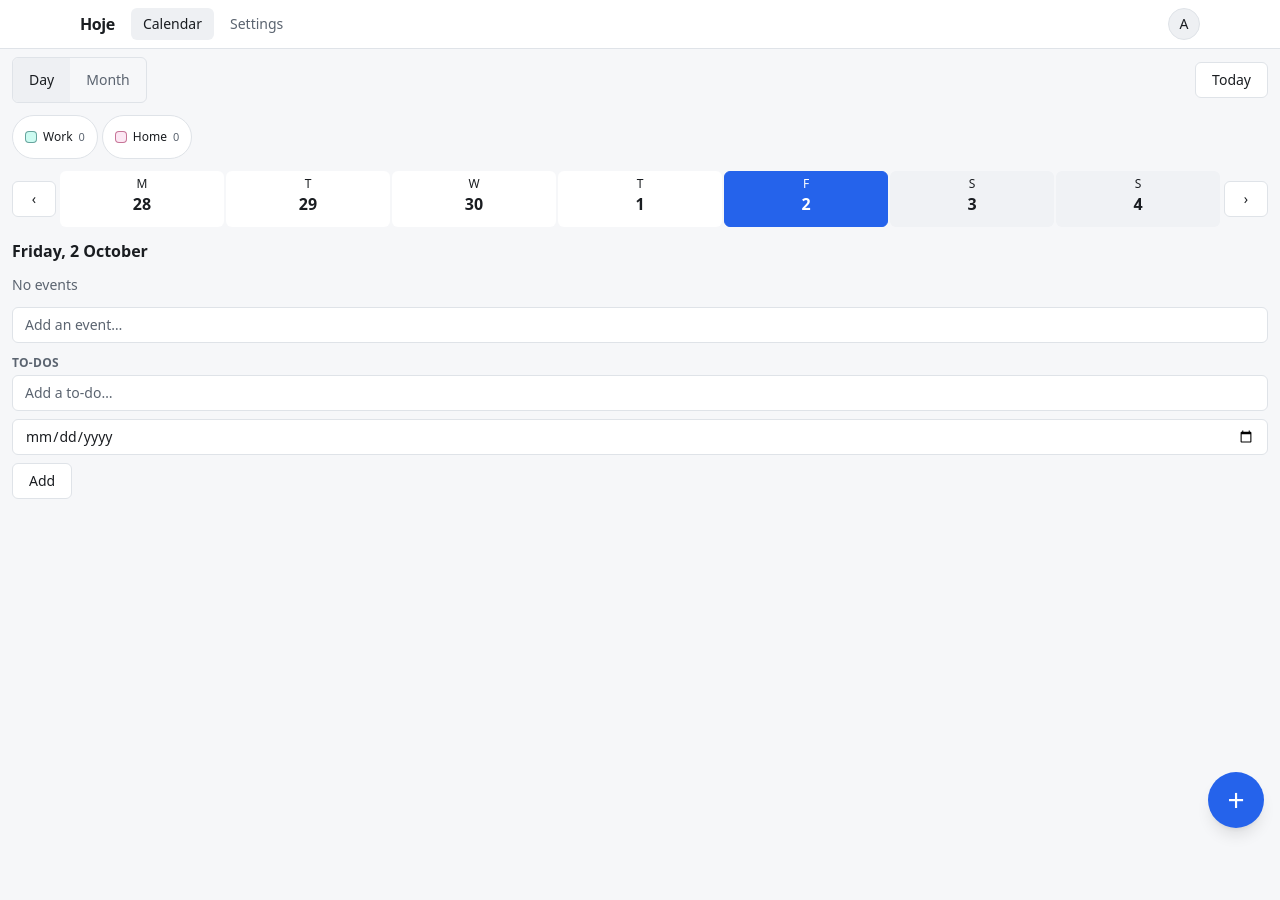
Test: mobile calendar › More carries the typed title into the full editor
Click the button named "Add event" at (1236, 800), box [1208,772,1264,828]
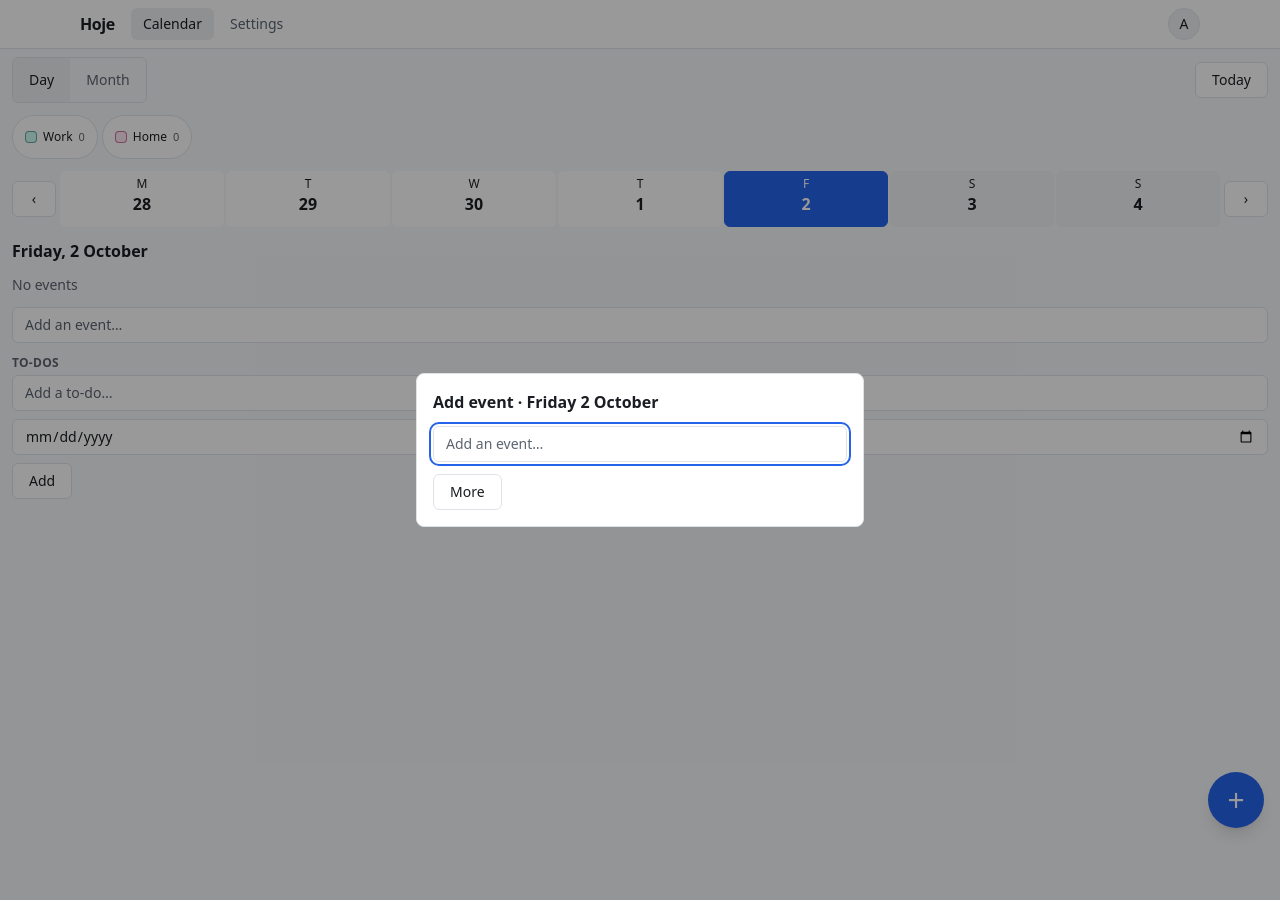
Type "Dentist" into the field labelled "Add an event" at (640, 444), box [433,426,847,462]
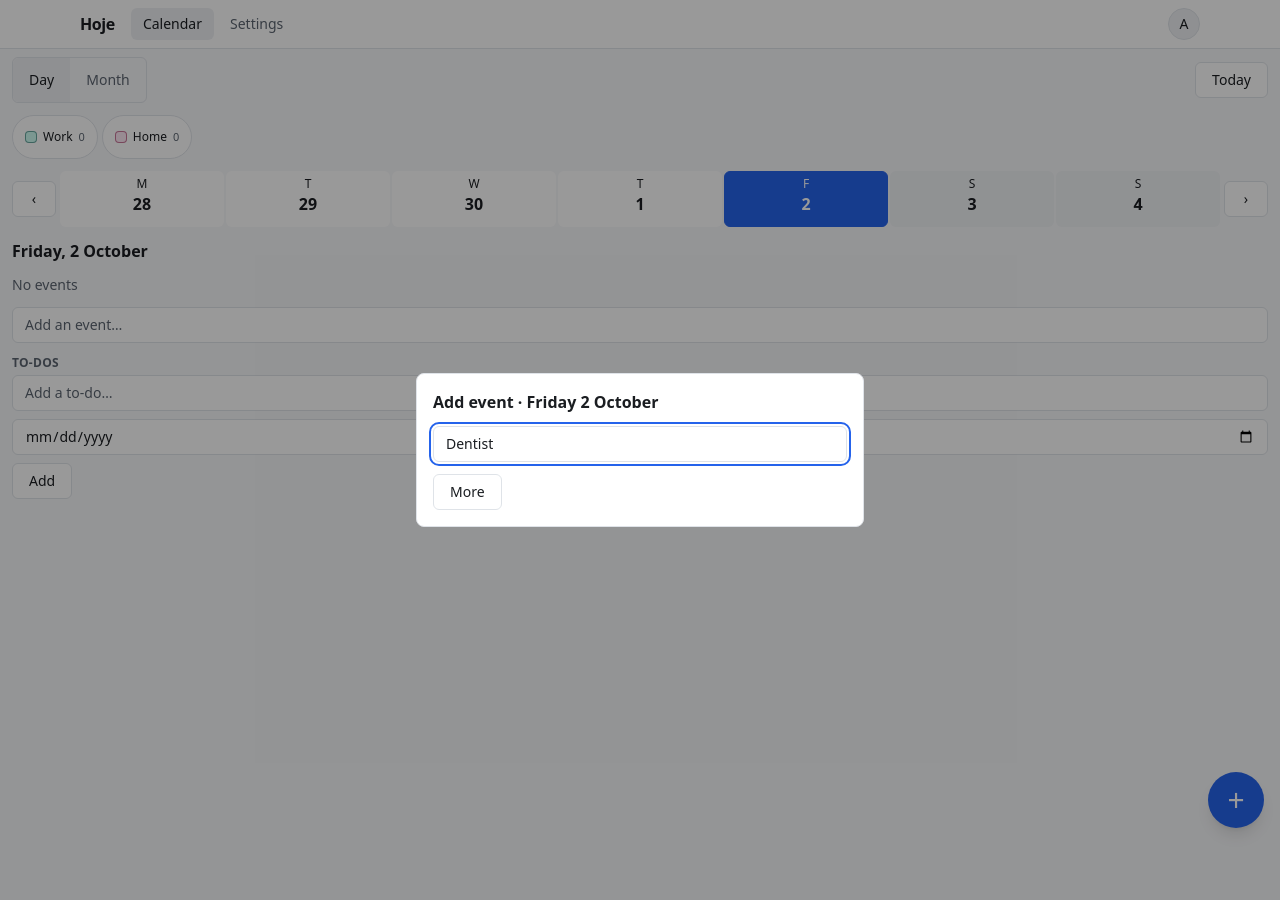
Click the button "More" at (467, 492), box [433,474,502,510]
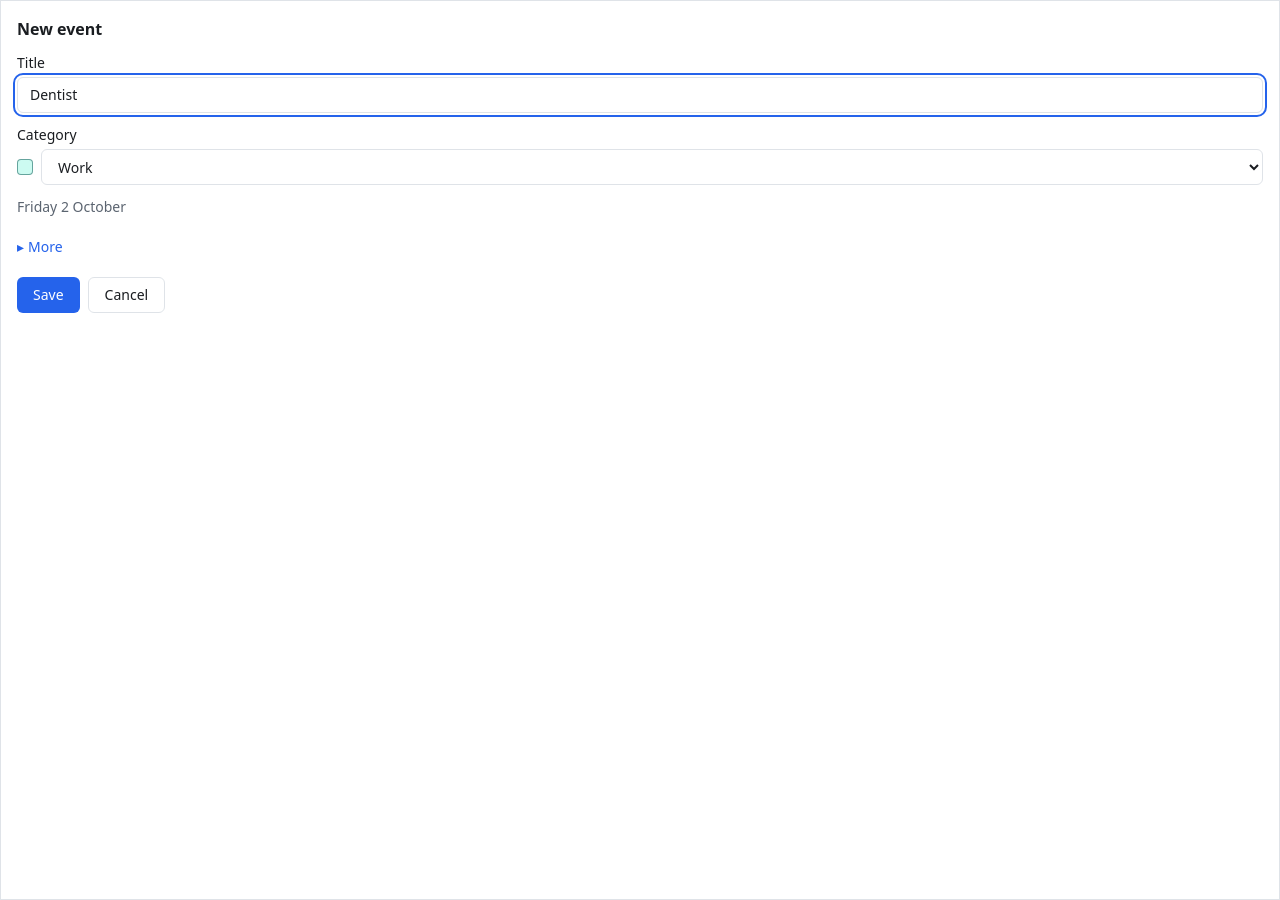
Expected: the field labelled "Title" holds "Dentist", [17,77,1263,113]
